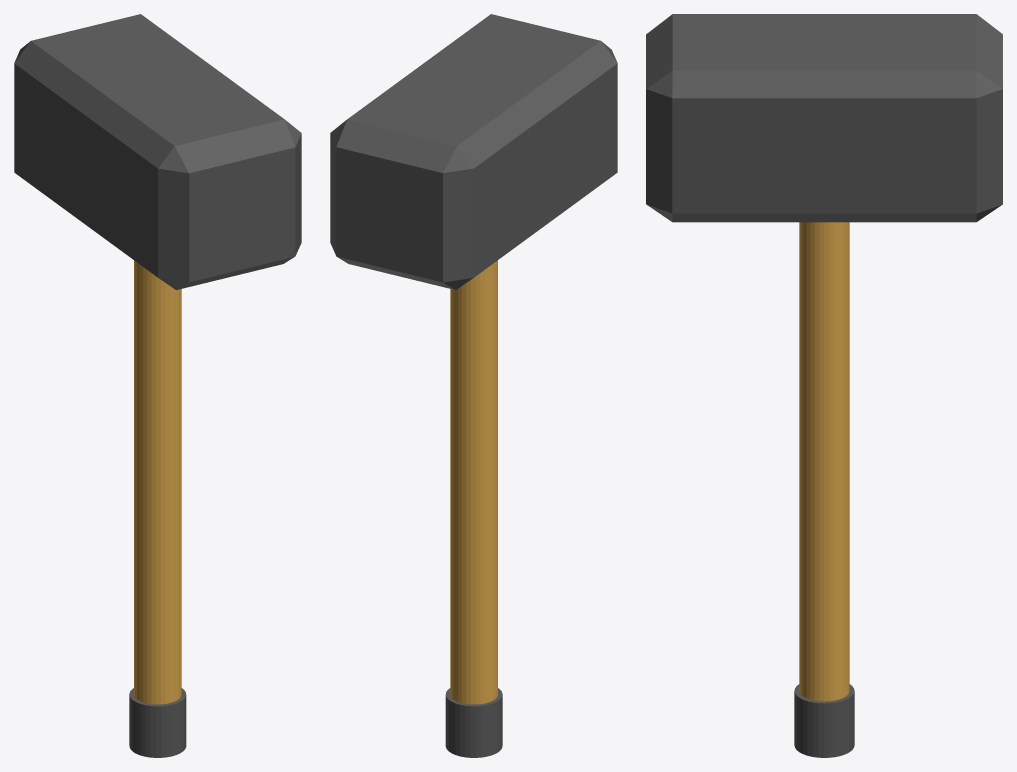
The model's file is SledgeHammer.fbx.
The picture shows the model from 3 angles, left to right: view 1: azimuth 30°, elevation 25°; view 2: azimuth 150°, elevation 25°; view 3: azimuth 270°, elevation 25°; orthographic projection. The views are drawn at different scales.
Parts seen in each view (by area): view 1: Cube, Cylinder; view 2: Cube, Cylinder; view 3: Cube, Cylinder.
Boxes of the visible parts, box(x1,y1,x2,y2) form: Cube: box(14, 14, 301, 289); Cylinder: box(129, 260, 186, 757); Cube: box(330, 14, 617, 289); Cylinder: box(445, 260, 502, 757); Cube: box(646, 14, 1002, 222); Cylinder: box(794, 222, 854, 757).
Bounding box in the file's own units: 36.06 × 160 × 73.47.
